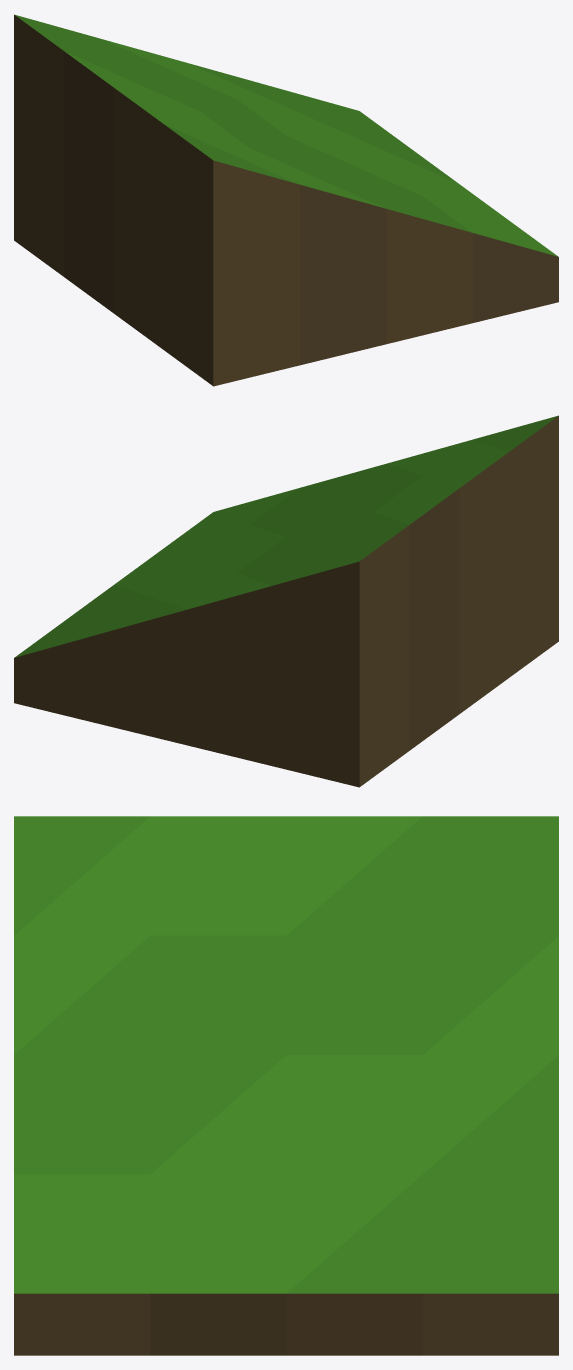
File: T02_Ground_Slope_2m.fbx
3 renders of one model, top to bottom at view 1: azimuth 30°, elevation 25°; view 2: azimuth 150°, elevation 25°; view 3: azimuth 270°, elevation 25°, orthographic. The views are drawn at different scales.
Visible parts, largest first — view 1: T02_Ground_Slope_2m; view 2: T02_Ground_Slope_2m; view 3: T02_Ground_Slope_2m.
Boxes of the visible parts, x1,y1,x2,y2 form: T02_Ground_Slope_2m: (14, 14, 558, 386); T02_Ground_Slope_2m: (14, 415, 558, 787); T02_Ground_Slope_2m: (14, 816, 558, 1355).
Size of the model in its own units: 2 by 1.25 by 2.
2 materials, 2 textured.
